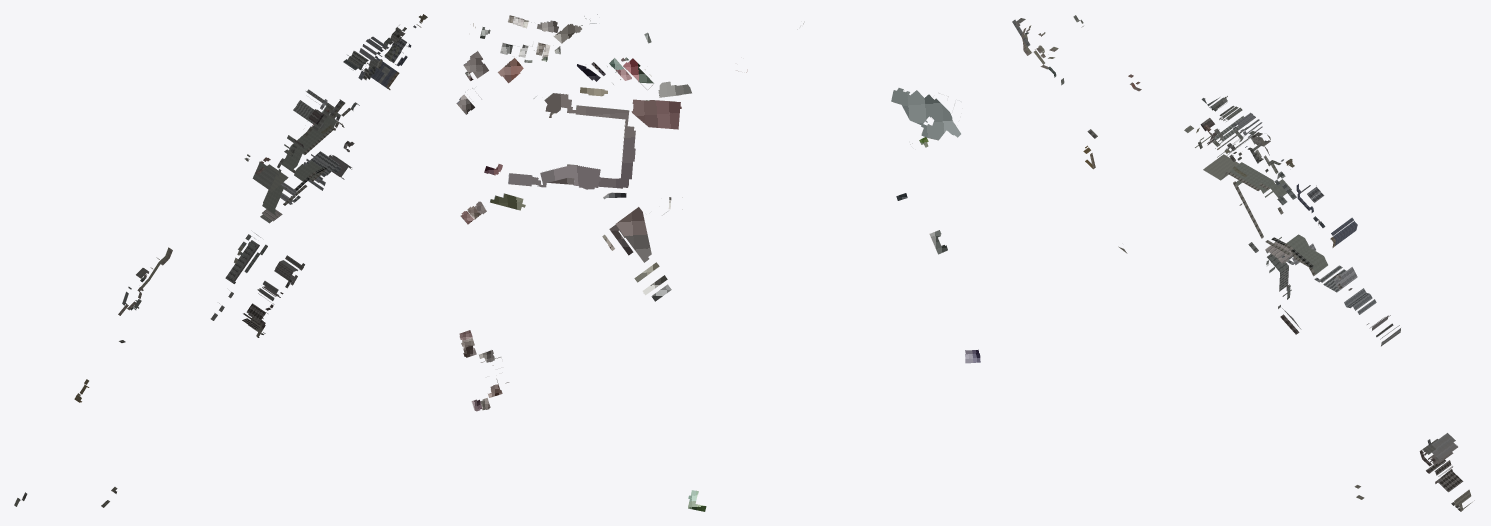
Rendered from tile_LOD4_r3_c0.glb.
The picture shows the model from 3 angles, left to right: view 1: azimuth 30°, elevation 25°; view 2: azimuth 150°, elevation 25°; view 3: azimuth 270°, elevation 25°; orthographic projection. The views are drawn at different scales.
Bounding box in the file's own units: 638 × 569 × 470.
221 materials, 221 textured.
